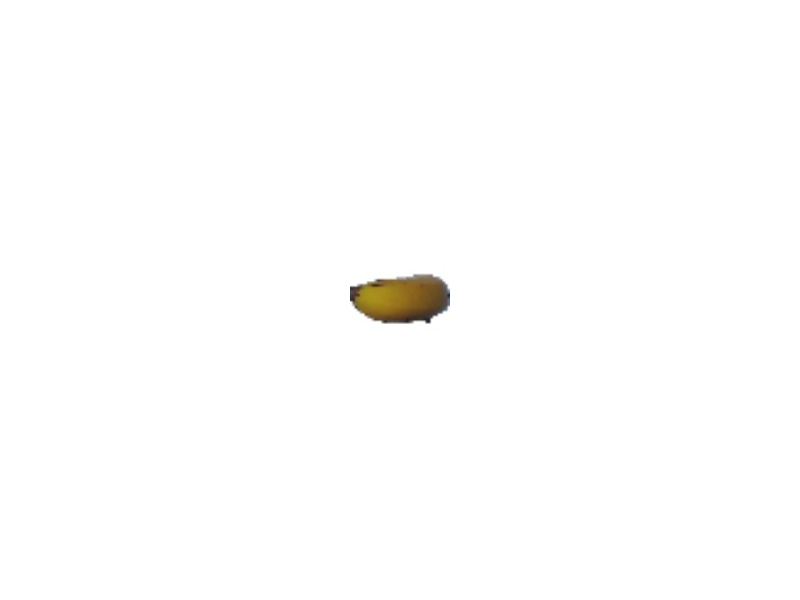banana: (344, 272, 453, 327)
